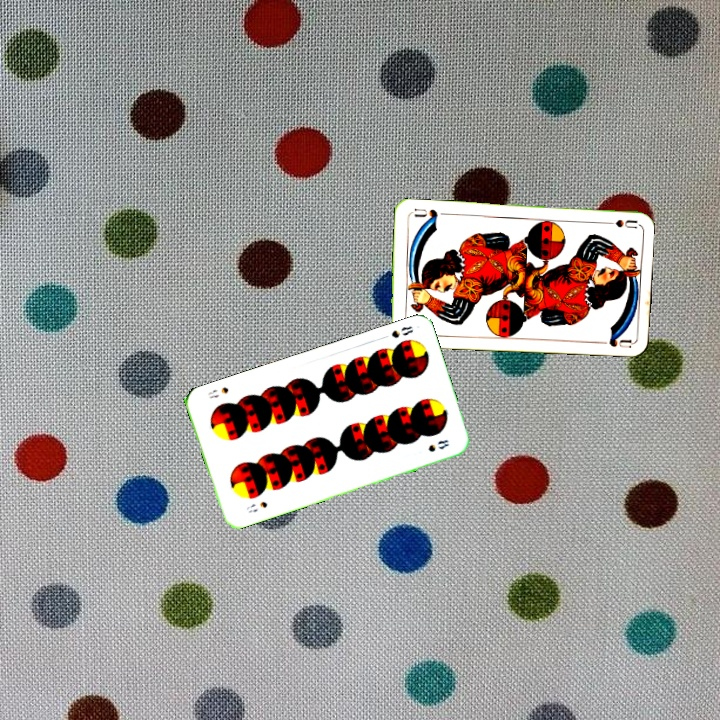S8: (377, 322, 416, 342), (243, 497, 270, 515)
SU: (597, 215, 638, 231)
